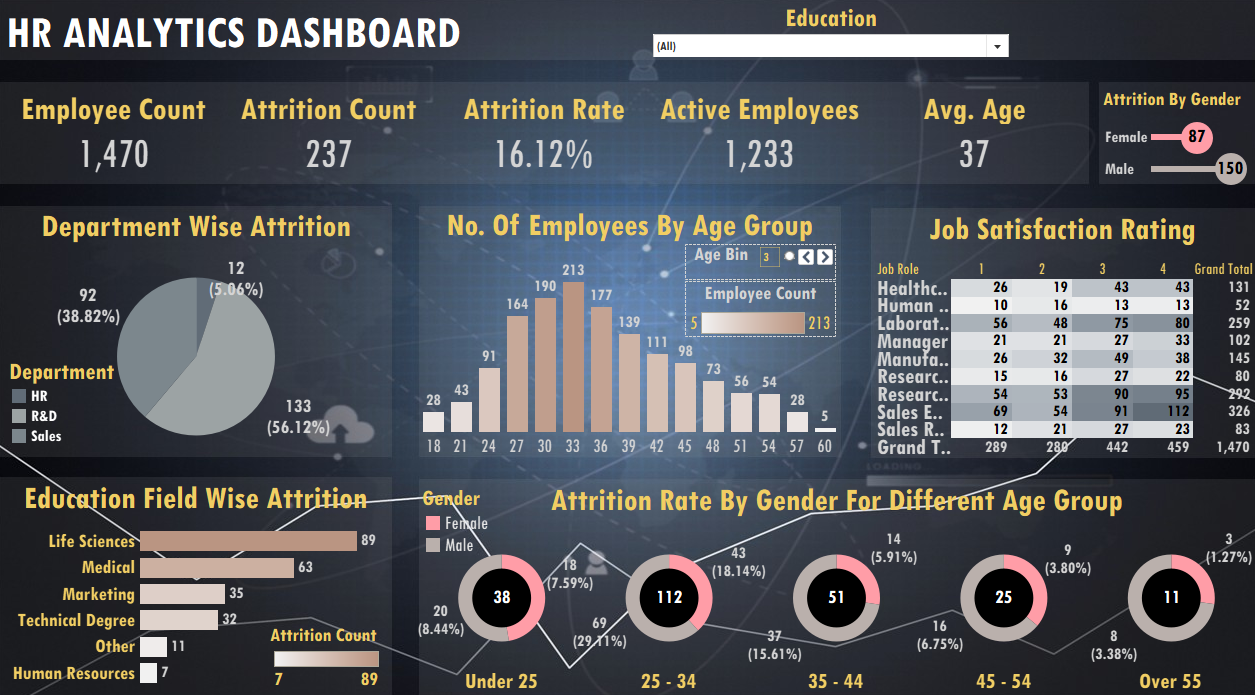

The page's visual inventory and layout, read from the dashboard file:
{"tool":"tableau","page":{"name":"HR Analytics Dashboard","canvas":[1280,720],"ordinal":0},"visuals":[{"type":"image","param":"Image/mine.jpg","box":[8,8,1264,704]},{"type":"text","box":[15,15,657,62]},{"type":"filter","title":"Department Wise Attrition","param":"[federated.0ijttir1lv36n31b315nk0rkgl10].[none:Education:nk]","box":[662,16,362,53]},{"type":"worksheet","title":"Attrition By Gender","mark":"Automatic","rows":["Gender"],"cols":["Calculation_0999465724895232","Calculation_0999465724895232"],"box":[1111,96,152,101]},{"type":"worksheet","title":"KPI","mark":"Automatic","box":[18,108,1076,91]},{"type":"worksheet","title":"No. Of Employees By Age Group","mark":"Automatic","rows":["Employee Count"],"cols":["Age (bin)"],"box":[432,216,419,254]},{"type":"worksheet","title":"Department Wise Attrition","mark":"Pie","box":[13,217,390,252]},{"type":"worksheet","title":"Job Satisfaction Rating","mark":"Square","rows":["Job Role"],"cols":["Job Satisfaction"],"box":[883,220,383,248]},{"type":"parameter","param":"[Parameters].[Parameter 1]","box":[697,256,151,36]},{"type":"legend","title":"No. Of Employees By Age Group","param":"[federated.0ijttir1lv36n31b315nk0rkgl10].[sum:Employee Count:qk]","box":[697,293,151,56]},{"type":"legend","title":"Department Wise Attrition","param":"[federated.0ijttir1lv36n31b315nk0rkgl10].[none:Department:nk]","box":[21,370,109,99]},{"type":"worksheet","title":"Education Field Wise Attrition","mark":"Automatic","rows":["Education Field"],"cols":["Calculation_0999465724895232"],"box":[12,489,391,209]},{"type":"worksheet","title":"Attrition Rate By Gender For Different Age Group","mark":"Pie","rows":["Calculation_1633609545502721","Calculation_1633609545502721"],"cols":["CF_age band"],"box":[430,491,837,216]},{"type":"legend","title":"Attrition Rate By Gender For Different Age Group","param":"[federated.0ijttir1lv36n31b315nk0rkgl10].[none:Gender:nk]","box":[434,498,89,72]},{"type":"legend","title":"Education Field Wise Attrition","param":"[federated.0ijttir1lv36n31b315nk0rkgl10].[sum:Calculation_0999465724895232:qk]","box":[282,636,113,67]}]}

Visuals, with their boxes in screenshot pixels (x1, y1, x2, y2), scaled from the page's 1280x720 canvas onto the 1255x695 screenshot:
image: select_region(8, 8, 1247, 687)
text: select_region(15, 14, 659, 74)
"Department Wise Attrition" filter: select_region(649, 15, 1004, 67)
"Attrition By Gender" worksheet: select_region(1089, 93, 1238, 190)
"KPI" worksheet: select_region(18, 104, 1073, 192)
"No. Of Employees By Age Group" worksheet: select_region(424, 208, 834, 454)
"Department Wise Attrition" worksheet (Pie marks): select_region(13, 209, 395, 453)
"Job Satisfaction Rating" worksheet (Square marks): select_region(866, 212, 1241, 452)
parameter: select_region(683, 247, 831, 282)
"No. Of Employees By Age Group" legend: select_region(683, 283, 831, 337)
"Department Wise Attrition" legend: select_region(21, 357, 127, 453)
"Education Field Wise Attrition" worksheet: select_region(12, 472, 395, 674)
"Attrition Rate By Gender For Different Age Group" worksheet (Pie marks): select_region(422, 474, 1242, 682)
"Attrition Rate By Gender For Different Age Group" legend: select_region(426, 481, 513, 550)
"Education Field Wise Attrition" legend: select_region(276, 614, 387, 679)
